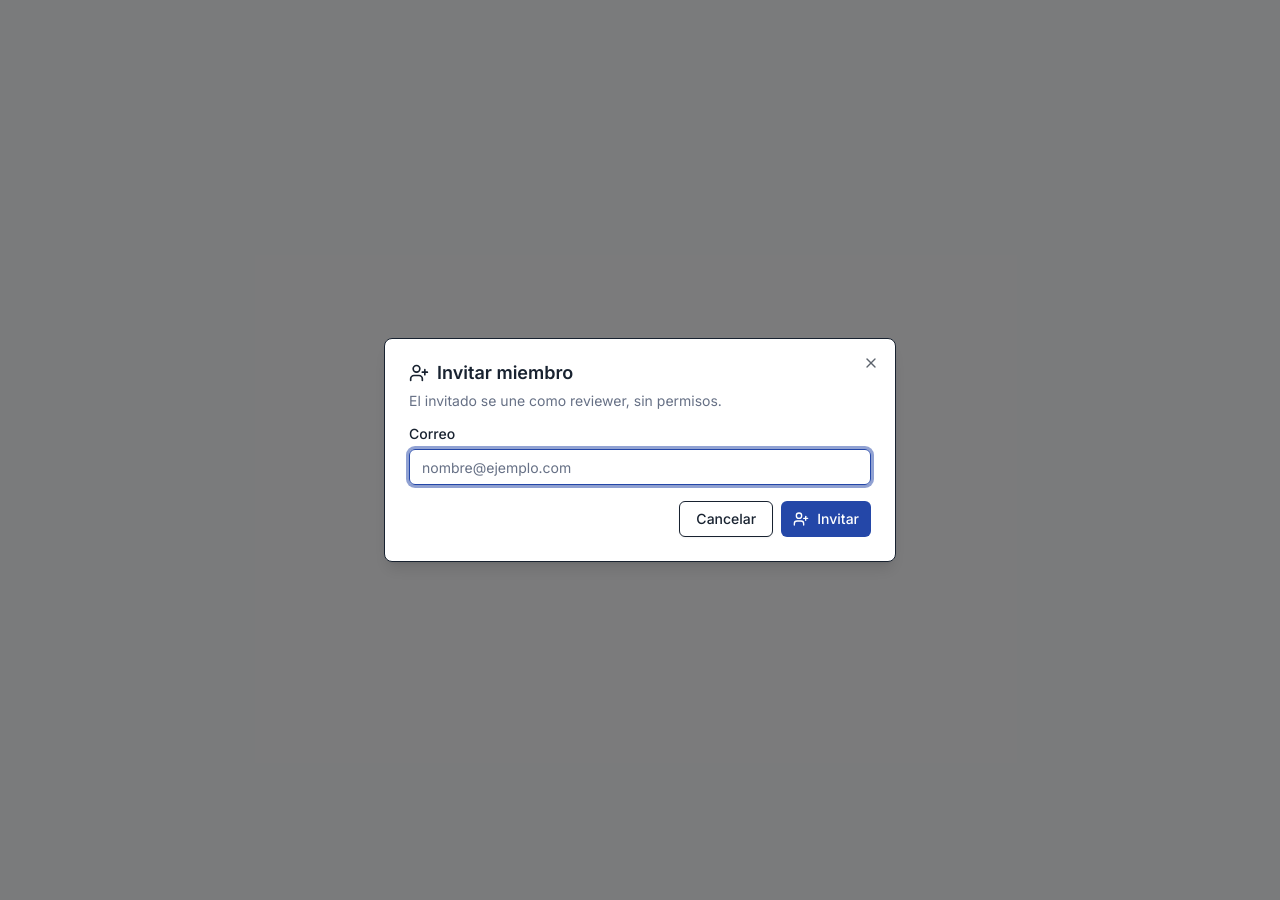
Test: InviteDialog (F3, S9) › 429: mensaje estándar de F2
In the field labelled "Correo": (640, 467) x1=409 y1=449 x2=871 y2=485, type "nueva@example.com"
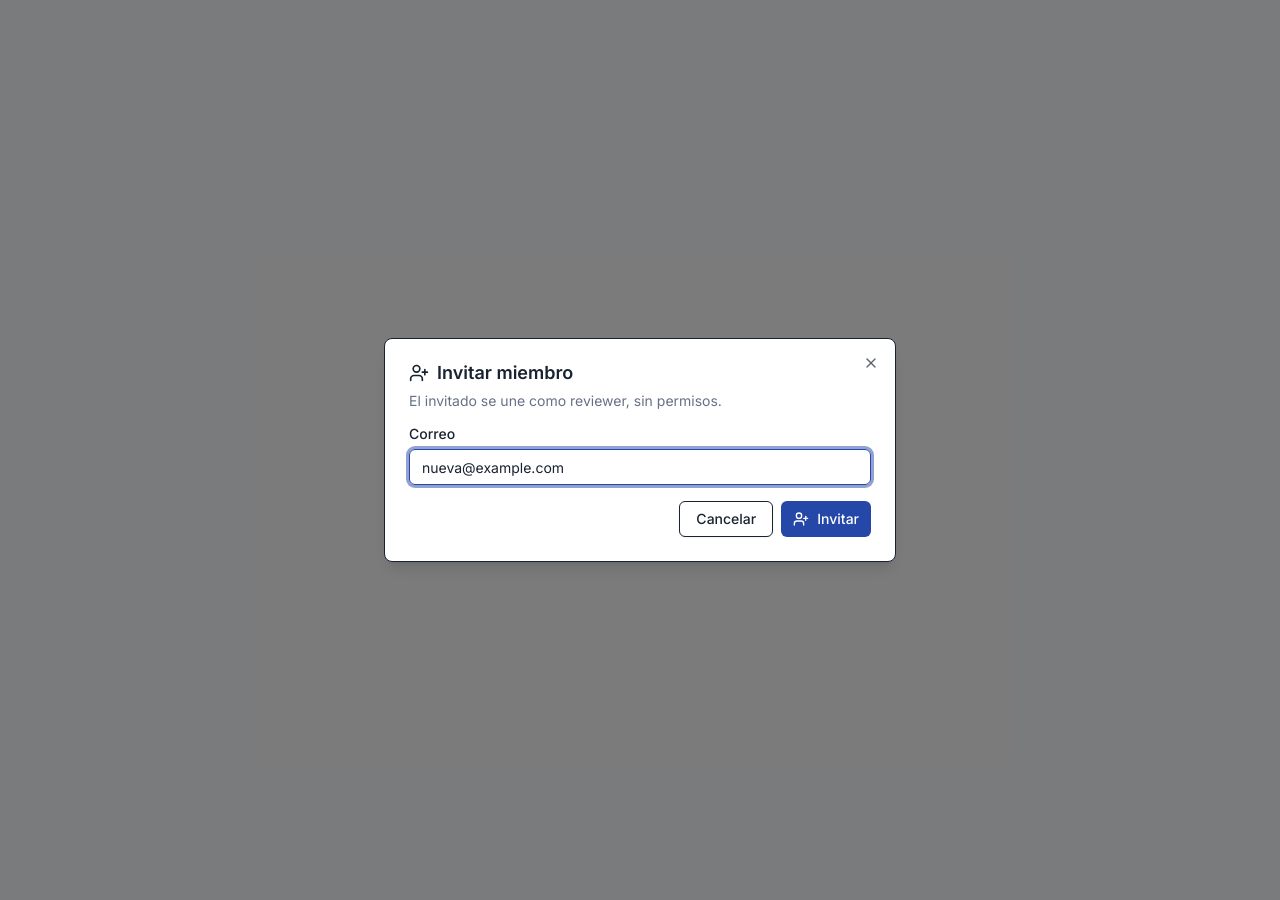
Click the button "Invitar": (826, 519) x1=781 y1=501 x2=871 y2=537
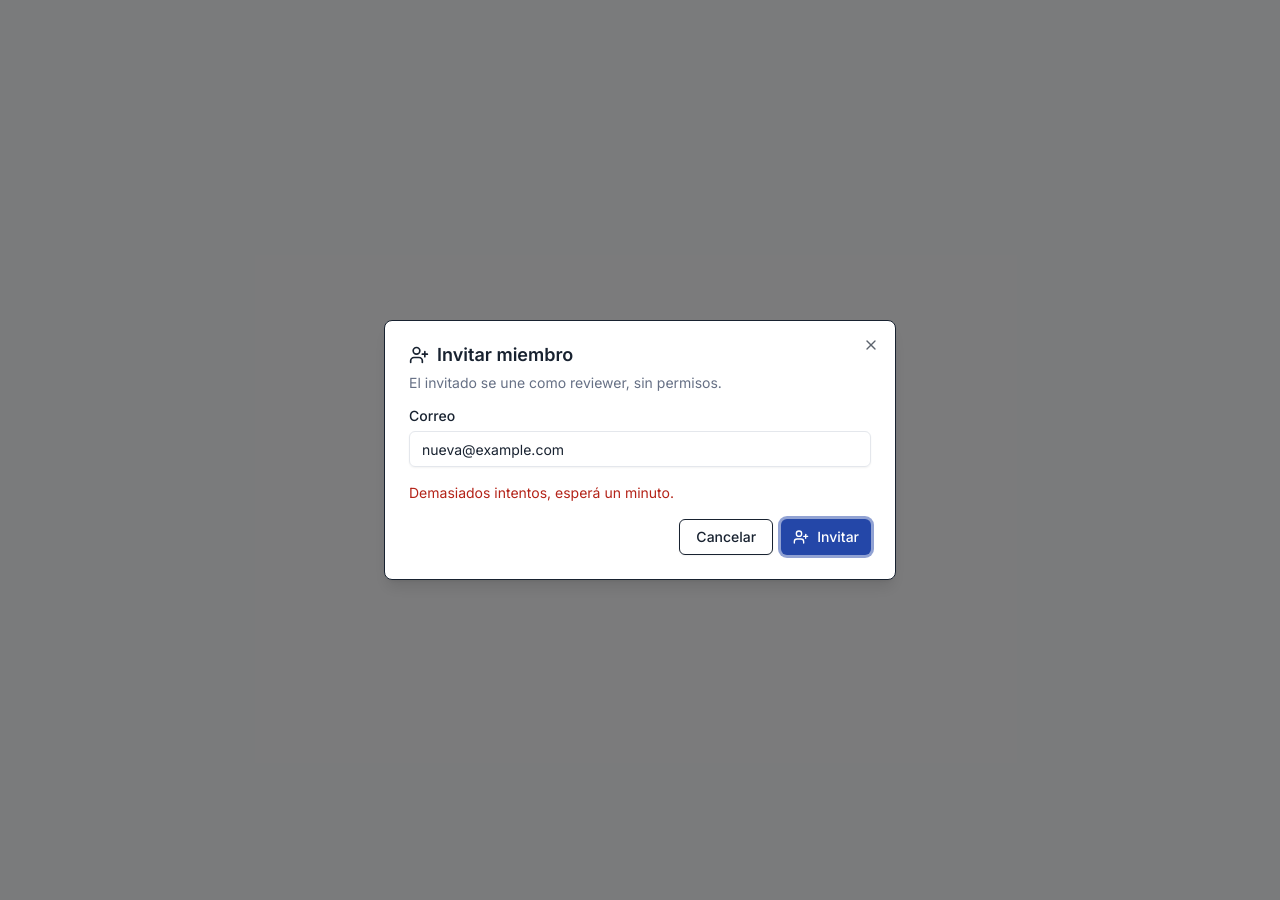
expect the text "Demasiados intentos, esperá un minuto." is shown: met, box x1=409 y1=484 x2=674 y2=501
